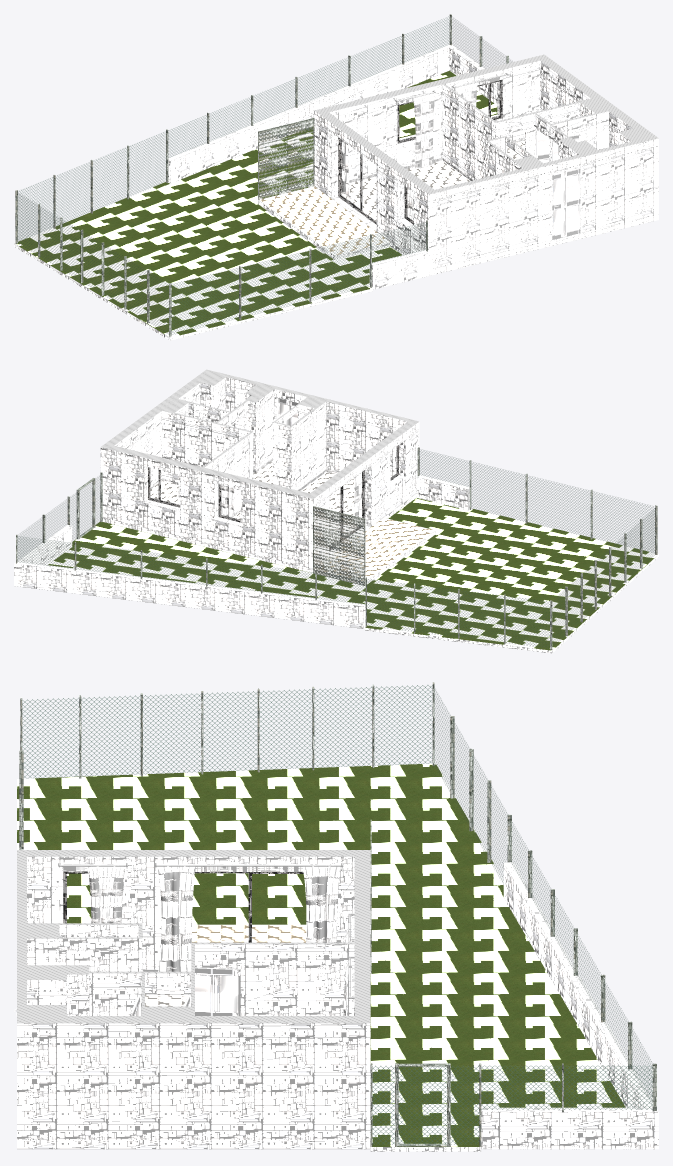
The picture shows the model from 3 angles, top to bottom: view 1: azimuth 30°, elevation 25°; view 2: azimuth 150°, elevation 25°; view 3: azimuth 270°, elevation 25°; orthographic projection. The views are drawn at different scales.
Visible parts, largest first — view 1: masonry_01, ground_garden_01, fence_01, section_01, ground_terrace_01, railing_green_01, door_01, ground_living_01, french_window_doble_01, curtain_02; view 2: masonry_01, ground_garden_01, fence_01, section_01, ground_terrace_01, railing_green_01, ground_living_01, french_window_doble_01, ground_bed_01; view 3: ground_garden_01, masonry_01, fence_01, section_01, curtain_04, interior_door_panel_03, ground_terrace_01, curtain_01, french_window_doble_01.
Part boxes in pixels (left/top/right/bottom): masonry_01: left=14, top=44, right=658, bottom=340; ground_garden_01: left=14, top=70, right=497, bottom=337; fence_01: left=15, top=14, right=512, bottom=336; section_01: left=314, top=54, right=658, bottom=194; ground_terrace_01: left=259, top=186, right=389, bottom=255; railing_green_01: left=258, top=118, right=314, bottom=203; door_01: left=552, top=166, right=580, bottom=239; ground_living_01: left=341, top=160, right=470, bottom=221; french_window_doble_01: left=338, top=74, right=503, bottom=224; curtain_02: left=413, top=92, right=434, bottom=169; masonry_01: left=14, top=377, right=658, bottom=653; ground_garden_01: left=48, top=498, right=658, bottom=650; fence_01: left=16, top=447, right=657, bottom=649; section_01: left=101, top=369, right=418, bottom=498; ground_terrace_01: left=314, top=518, right=434, bottom=581; railing_green_01: left=313, top=506, right=365, bottom=585; ground_living_01: left=233, top=472, right=361, bottom=545; french_window_doble_01: left=148, top=445, right=398, bottom=550; ground_bed_01: left=150, top=481, right=178, bottom=504; ground_garden_01: left=17, top=763, right=625, bottom=1146; masonry_01: left=17, top=856, right=658, bottom=1151; fence_01: left=19, top=682, right=656, bottom=1146; section_01: left=17, top=850, right=370, bottom=1023; curtain_04: left=158, top=865, right=340, bottom=971; interior_door_panel_03: left=195, top=967, right=240, bottom=1015; ground_terrace_01: left=191, top=924, right=306, bottom=942; curtain_01: left=88, top=865, right=124, bottom=923; french_window_doble_01: left=63, top=864, right=354, bottom=1015.
Bounding box in the file's own units: 17.61 × 2.75 × 12.52.
18 materials, 11 textured.
